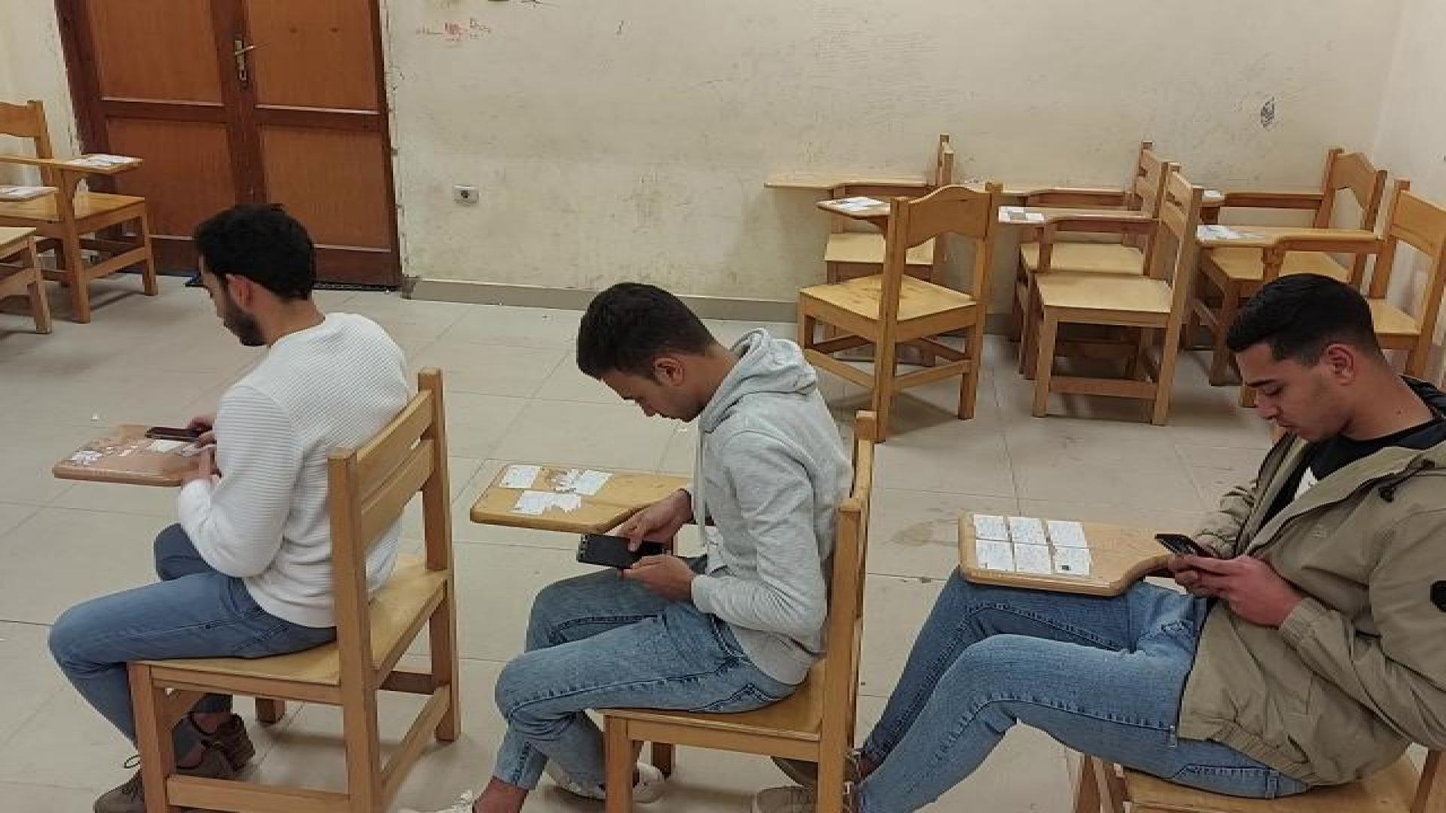phone: (573, 531, 679, 572), (1147, 523, 1228, 558), (142, 422, 208, 444)
